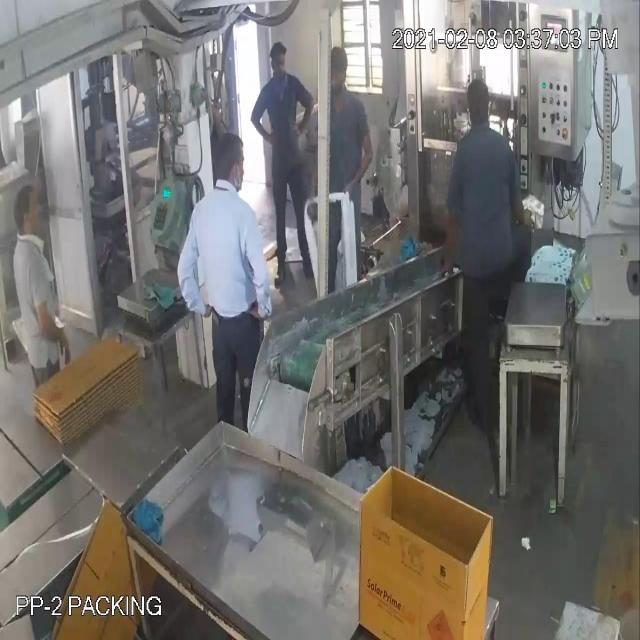No_Gloves: (28, 72, 356, 334)
